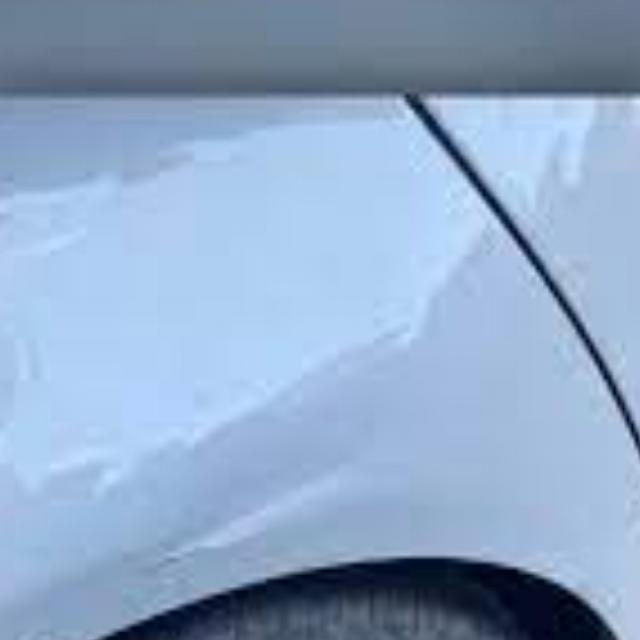dents: (116, 458, 333, 608)
